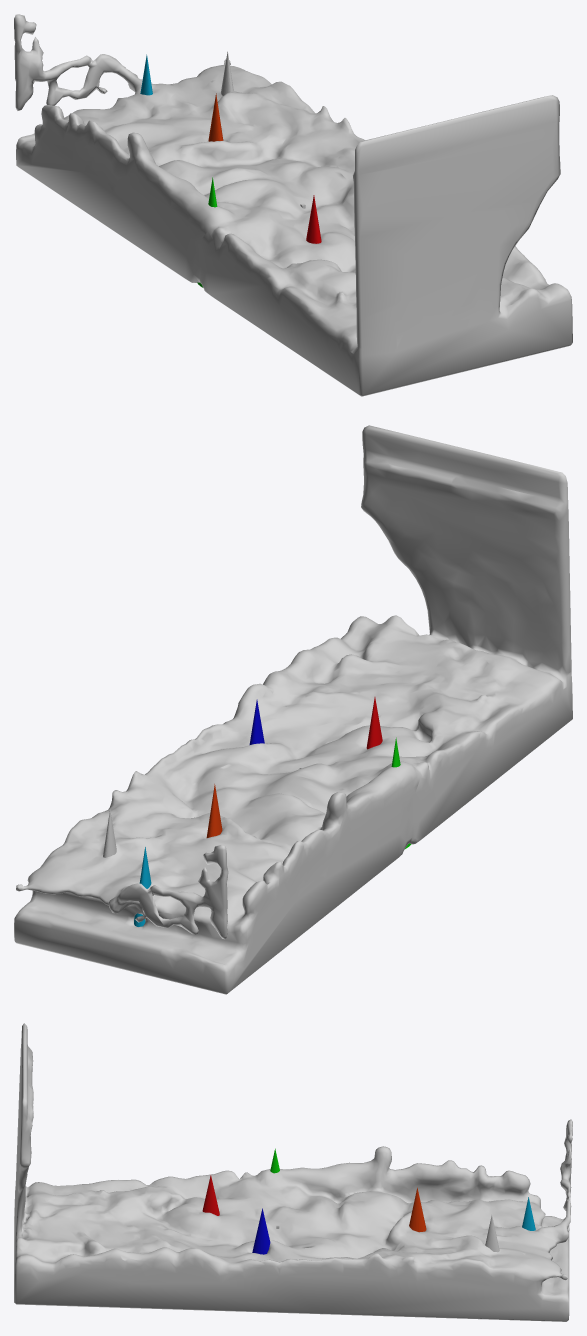
The picture shows the model from 3 angles, top to bottom: view 1: azimuth 30°, elevation 25°; view 2: azimuth 150°, elevation 25°; view 3: azimuth 270°, elevation 25°; orthographic projection. The views are drawn at different scales.
Parts seen in each view (by area): view 1: Liquid_Domain; view 2: Liquid_Domain; view 3: Liquid_Domain, 円錐.002, 円錐.004.
Part boxes in pixels (bbox=[...]): Liquid_Domain: bbox=[14, 14, 572, 396]; Liquid_Domain: bbox=[14, 425, 572, 994]; Liquid_Domain: bbox=[14, 1023, 572, 1321]; 円錐.002: bbox=[252, 1208, 270, 1254]; 円錐.004: bbox=[409, 1187, 426, 1232].
Bounding box in the file's own units: 129 × 158 × 363.
